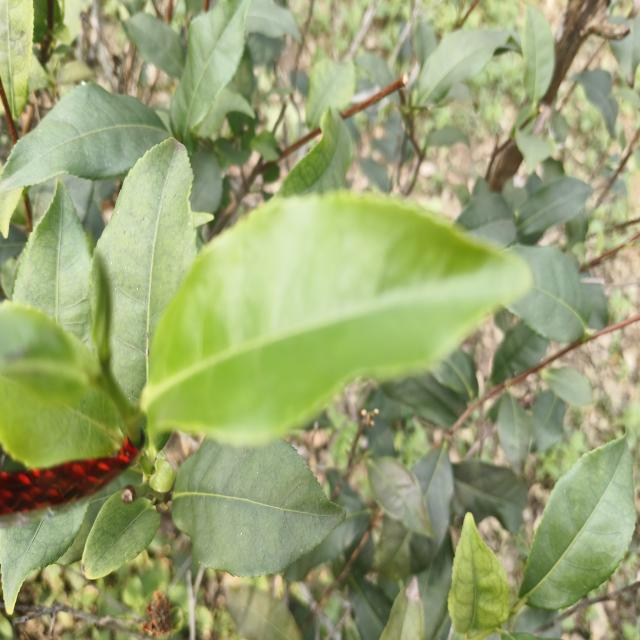Leaf: (142, 191, 532, 445), (94, 138, 196, 399), (172, 439, 345, 576), (519, 438, 635, 609), (0, 83, 169, 192), (12, 180, 91, 349), (171, 0, 249, 150), (0, 376, 123, 468), (374, 446, 454, 579), (0, 302, 97, 405), (0, 502, 88, 614), (507, 245, 591, 342), (448, 512, 510, 640), (82, 490, 161, 579), (278, 108, 354, 197), (418, 30, 508, 104), (452, 459, 527, 533), (368, 456, 435, 537), (517, 176, 592, 243), (381, 374, 465, 426), (227, 585, 302, 640), (0, 0, 34, 119), (124, 12, 185, 78), (491, 322, 548, 385), (306, 59, 356, 129), (522, 7, 554, 109), (457, 193, 516, 247), (193, 87, 255, 138), (572, 69, 618, 136), (497, 392, 533, 474), (380, 576, 425, 640), (350, 576, 392, 640), (434, 349, 478, 401), (610, 14, 640, 88), (246, 0, 300, 41), (531, 391, 566, 452), (541, 367, 592, 406), (515, 130, 551, 173), (250, 130, 279, 161)
